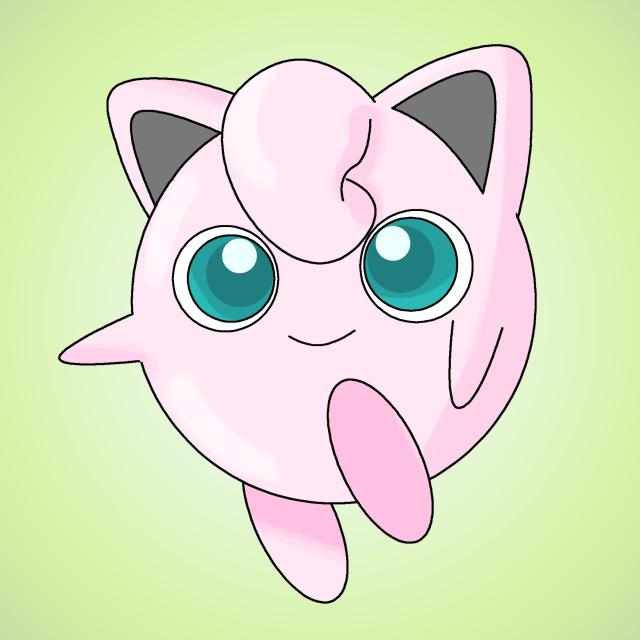Jigglypuff: (112, 48, 540, 540)
